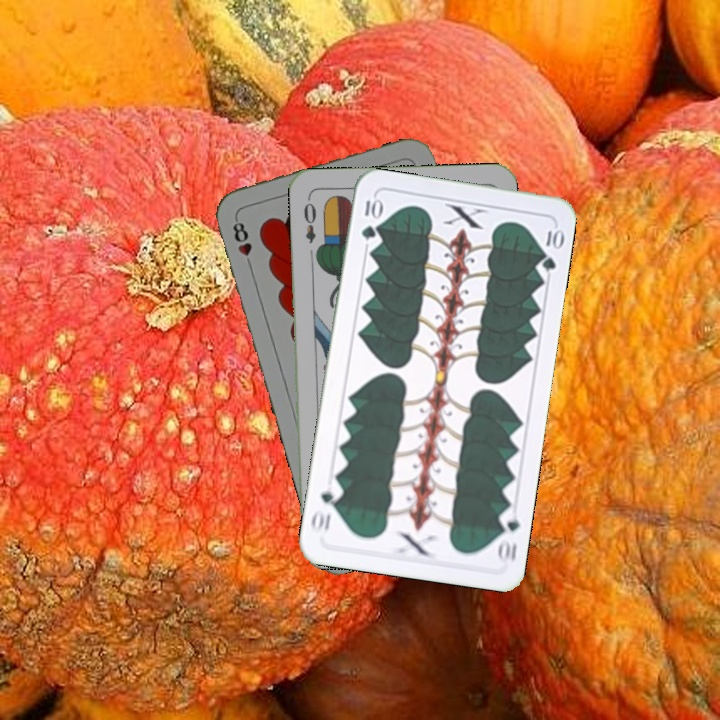EO: (299, 194, 319, 246)
G10: (493, 506, 522, 566), (357, 193, 383, 242)
H8: (228, 214, 255, 272)
